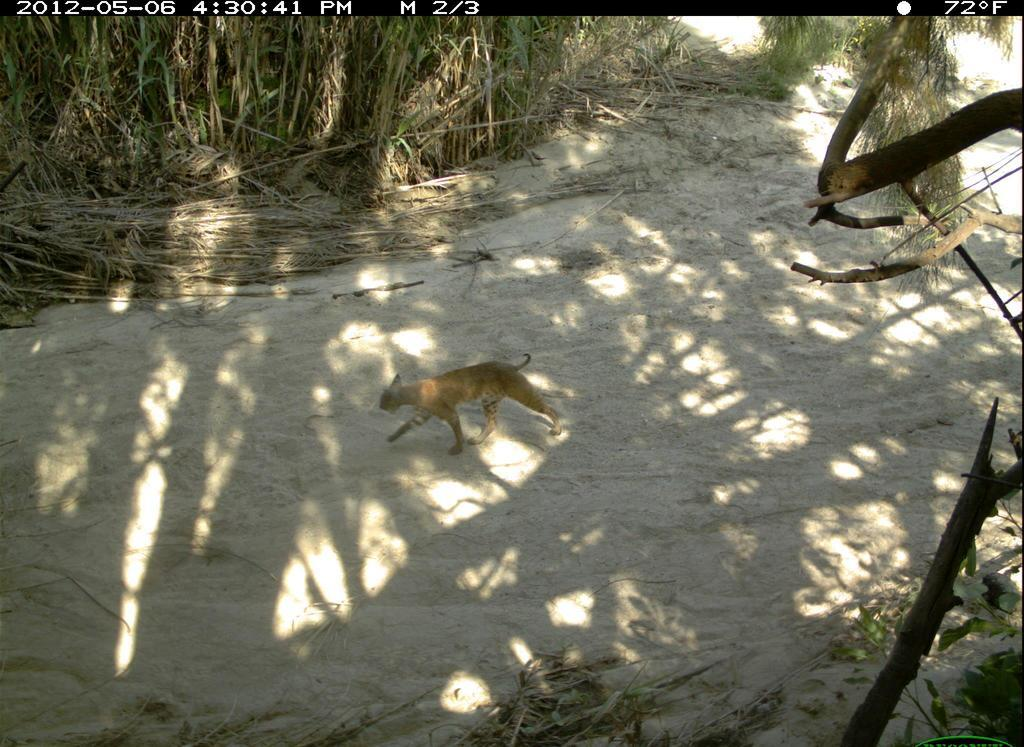bobcat: (373, 347, 573, 463)
